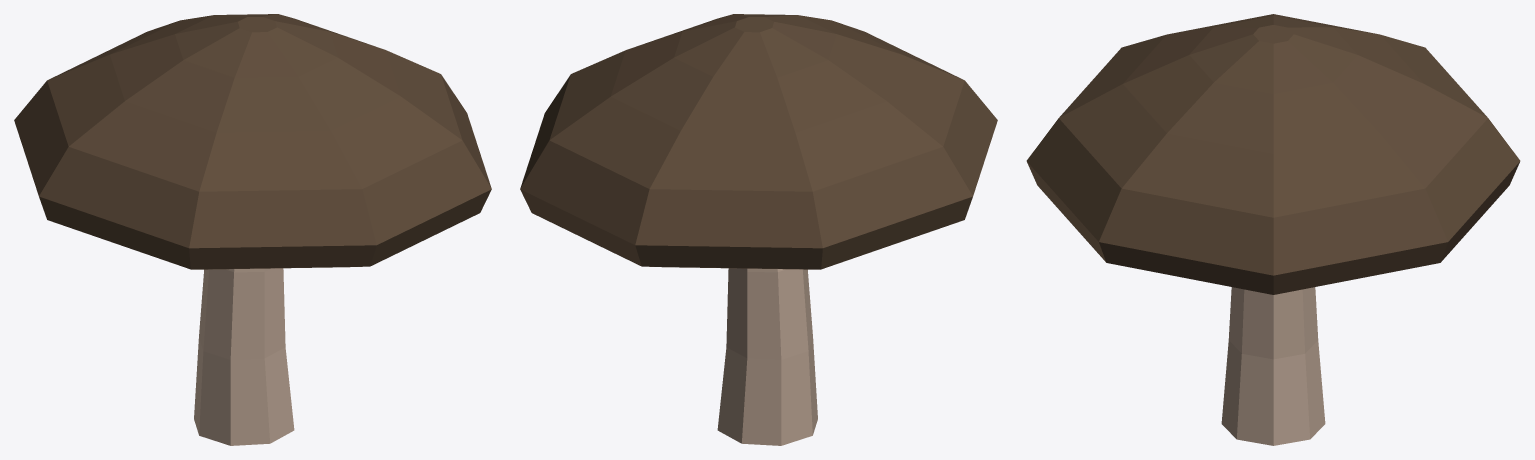
File: floresta_mushroom_brown_large.glb
The picture shows the model from 3 angles, left to right: view 1: azimuth 30°, elevation 25°; view 2: azimuth 150°, elevation 25°; view 3: azimuth 270°, elevation 25°; orthographic projection.
Parts seen in each view (by area): view 1: Brown Mushroom big f; view 2: Brown Mushroom big f; view 3: Brown Mushroom big f.
Part boxes in pixels (x1,y1,x2,y2): Brown Mushroom big f: (14, 14, 491, 445); Brown Mushroom big f: (520, 14, 997, 445); Brown Mushroom big f: (1026, 14, 1520, 445).
Size of the model in its own units: 0.6764 by 0.6004 by 0.6771.
